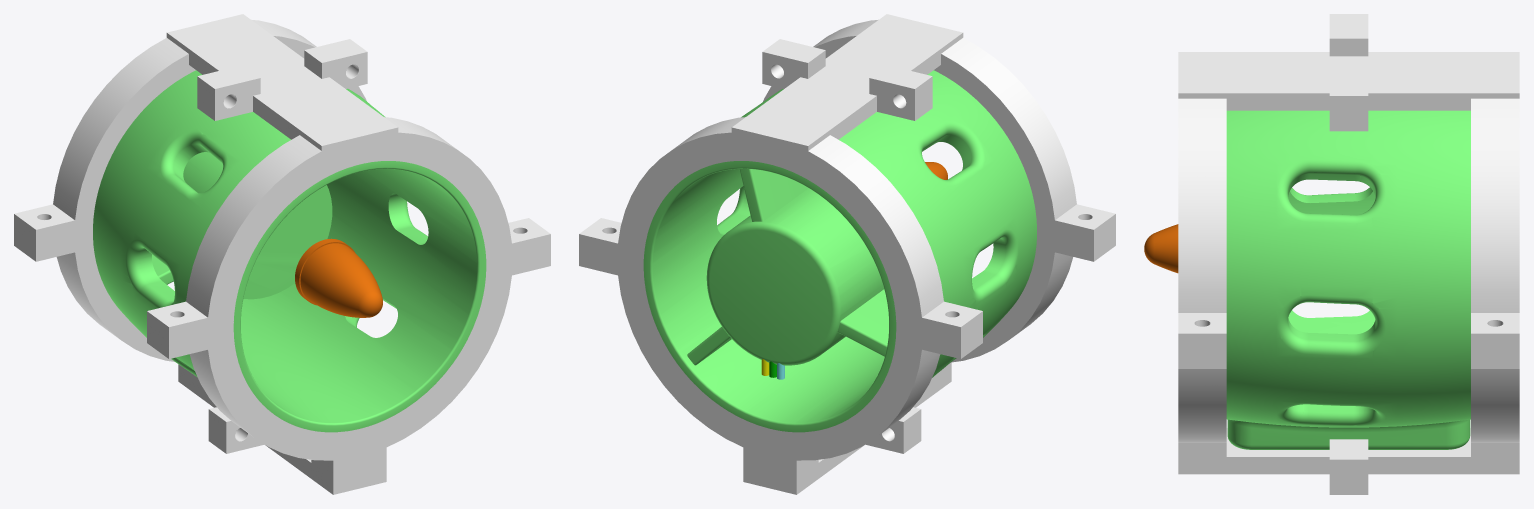
Rendered from gimbal_link3_gimbal_link3.dae.
3 views of the same model, side by side, from view 1: azimuth 30°, elevation 25°; view 2: azimuth 150°, elevation 25°; view 3: azimuth 270°, elevation 25° (orthographic). The views are drawn at different scales.
Visible parts, largest first — view 1: node6, node1, node4; view 2: node1, node6; view 3: node1, node6, node4.
Boxes of the visible parts, left/top/right/bottom form: node6: left=14, top=14, right=550, bottom=494; node1: left=93, top=70, right=486, bottom=432; node4: left=295, top=238, right=382, bottom=317; node1: left=643, top=70, right=1036, bottom=432; node6: left=579, top=14, right=1115, bottom=494; node1: left=1226, top=110, right=1470, bottom=449; node6: left=1178, top=14, right=1519, bottom=494; node4: left=1144, top=224, right=1178, bottom=273.
Bounding box in the file's own units: 0.1 × 0.092 × 0.0773.
